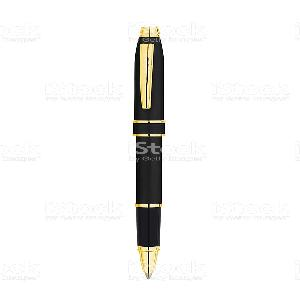pen: (128, 23, 169, 280)
